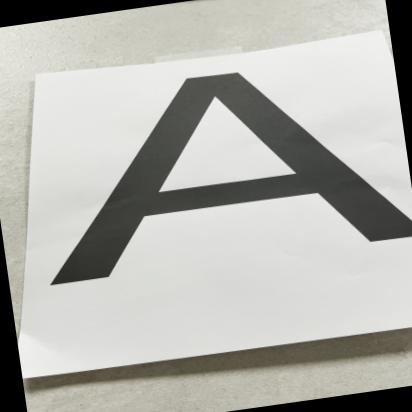seat: (22, 32, 412, 317)
